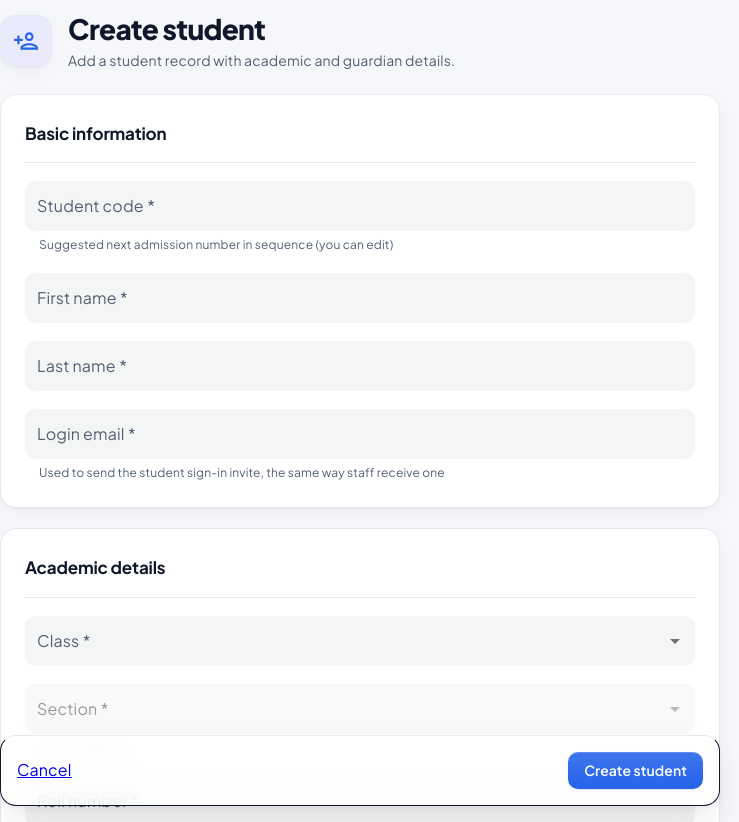
Test: NewStudentPage › picks the only section automatically
This screenshot has width=739, height=822.
Press the mouse on the 1st dropdown named "Class": (360, 641) top-left (26, 617), bottom-right (694, 665)
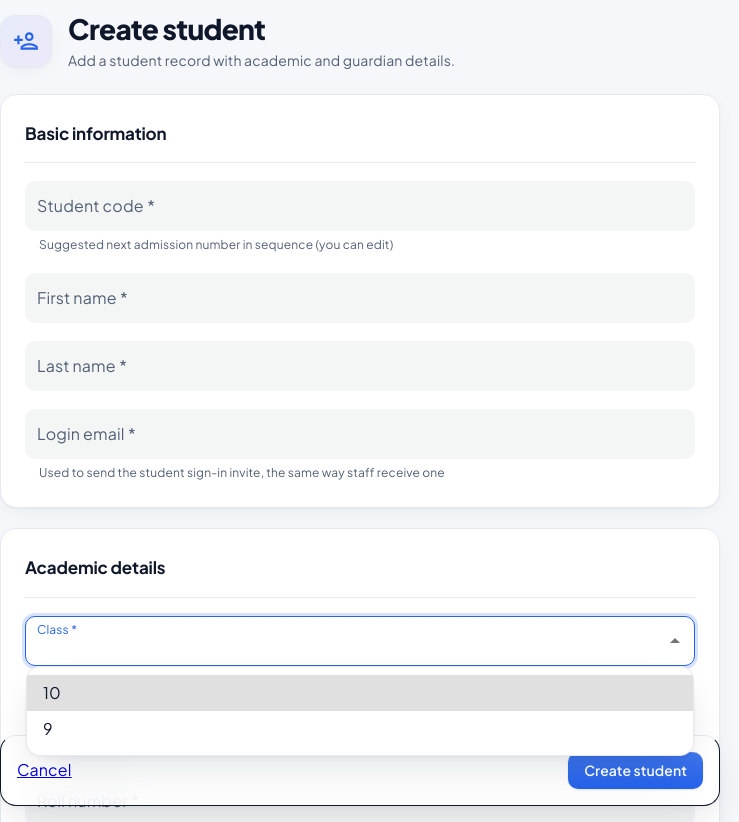
Click the option "9": click(48, 728) top-left (43, 718), bottom-right (53, 739)
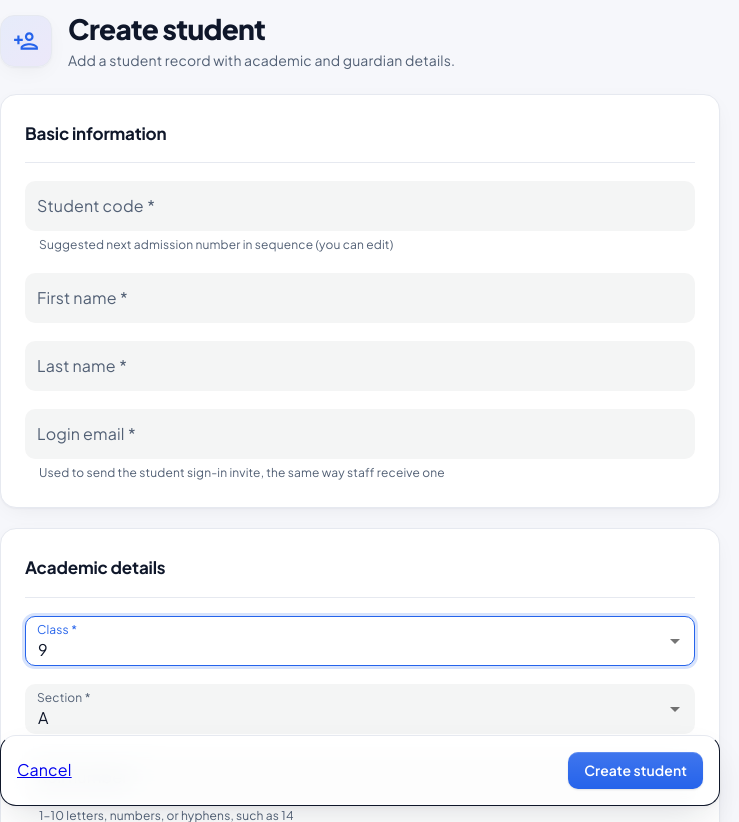
Now the dropdown named "Section" reads "A", box top-left (38, 707), bottom-right (49, 728)
